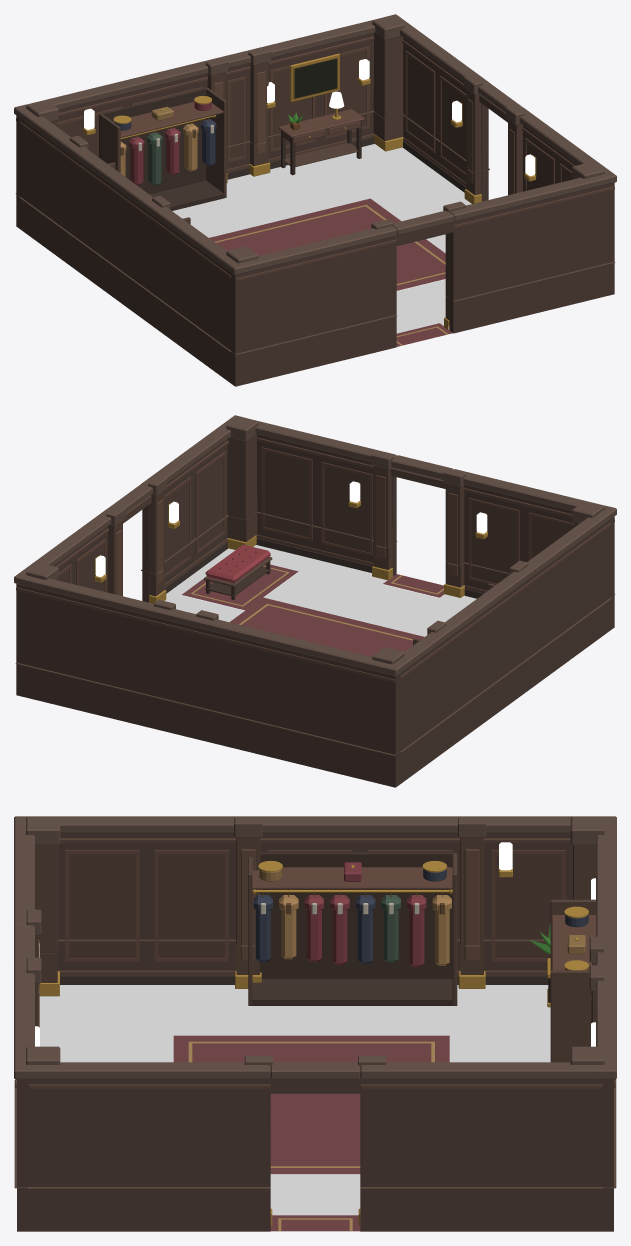
Rendered from cloakroom.glb.
The picture shows the model from 3 angles, top to bottom: view 1: azimuth 30°, elevation 25°; view 2: azimuth 150°, elevation 25°; view 3: azimuth 270°, elevation 25°; orthographic projection. The views are drawn at different scales.
Parts seen in each view (by area): view 1: static, floor, W_north_0_up, W_west_0_up, W_south_0_up, W_south_1_up, W_east_0_up, W_east_1_up; view 2: W_north_0_up, static, W_west_0_up, floor, W_south_1_up, W_south_0_up, W_east_1_up, W_east_0_up; view 3: static, floor, W_west_0_up, W_east_0_up, W_east_1_up, W_north_0_up, W_south_0_up, W_south_1_up.
Part boxes in pixels (left/top/right/bottom): static: left=15, top=87, right=615, bottom=386; floor: left=172, top=144, right=471, bottom=346; W_north_0_up: left=14, top=15, right=404, bottom=196; W_west_0_up: left=14, top=104, right=246, bottom=350; W_south_0_up: left=226, top=210, right=453, bottom=353; W_south_1_up: left=443, top=162, right=616, bottom=300; W_east_0_up: left=385, top=14, right=522, bottom=173; W_east_1_up: left=505, top=105, right=616, bottom=195; W_north_0_up: left=14, top=563, right=404, bottom=754; static: left=15, top=493, right=615, bottom=787; W_west_0_up: left=384, top=505, right=616, bottom=751; floor: left=165, top=545, right=476, bottom=656; W_south_1_up: left=226, top=416, right=396, bottom=547; W_south_0_up: left=391, top=455, right=616, bottom=597; W_east_1_up: left=141, top=415, right=245, bottom=574; W_east_0_up: left=14, top=484, right=152, bottom=596; static: left=14, top=852, right=616, bottom=1231; floor: left=39, top=985, right=550, bottom=1231; W_west_0_up: left=14, top=816, right=616, bottom=945; W_east_0_up: left=270, top=1055, right=616, bottom=1186; W_east_1_up: left=14, top=1055, right=272, bottom=1186; W_north_0_up: left=570, top=816, right=616, bottom=1186; W_south_0_up: left=14, top=816, right=60, bottom=987; W_south_1_up: left=14, top=957, right=60, bottom=1186.
Size of the model in its own units: 8.08 by 2.48 by 8.08.
